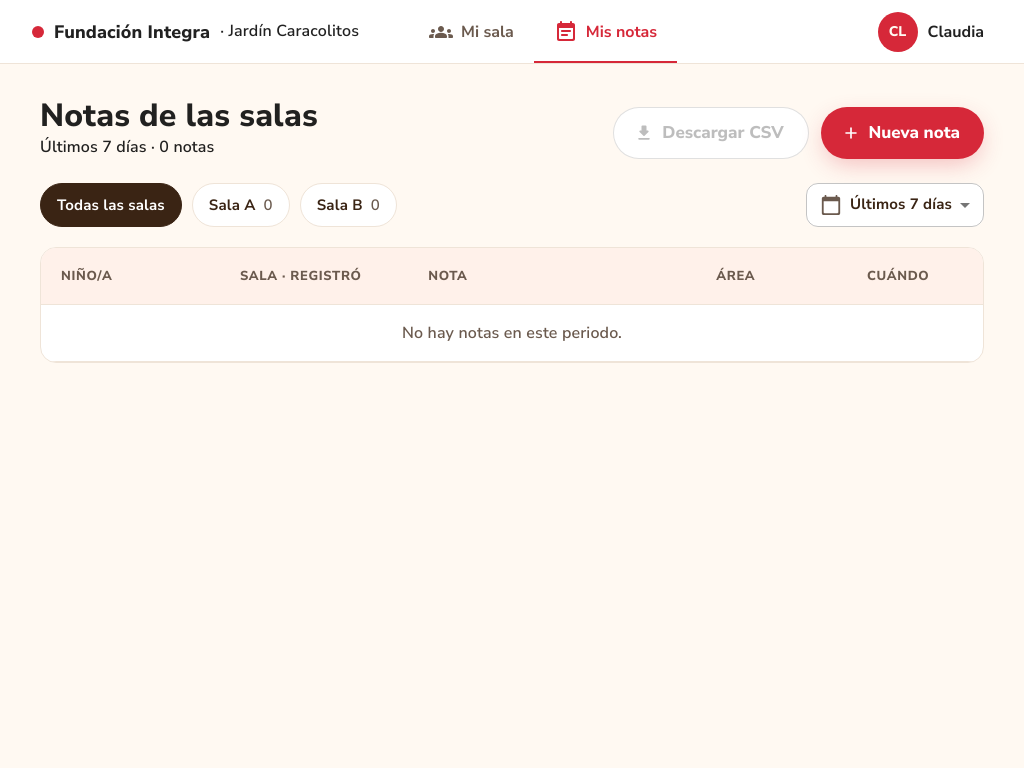
Pestañas de escritorio › agrupa por sala con «Todas las salas» e indica las áreas sin notas
Step 1. Click the tab "Mi sala" → (471, 32), box [409,0,534,64]
(page scrolled)
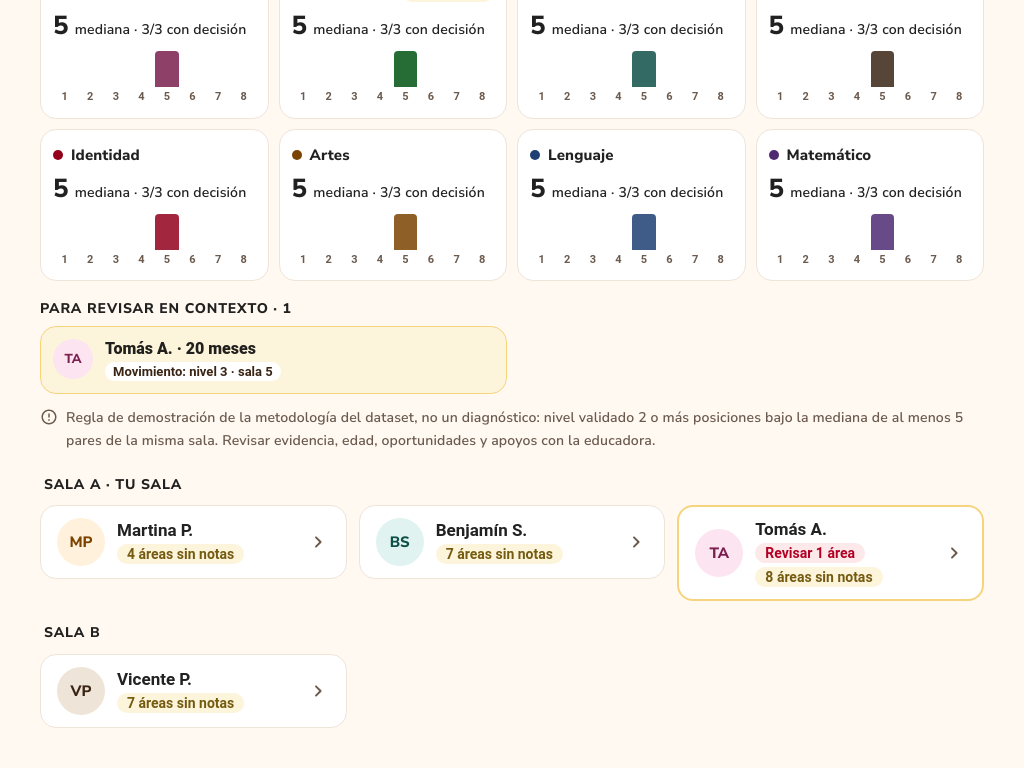
Expected: the text "4 áreas sin notas" is shown, [117,544,244,564]
Expected: the button "MP Martina P. 4 áreas sin notas" is shown, [40,505,347,579]
